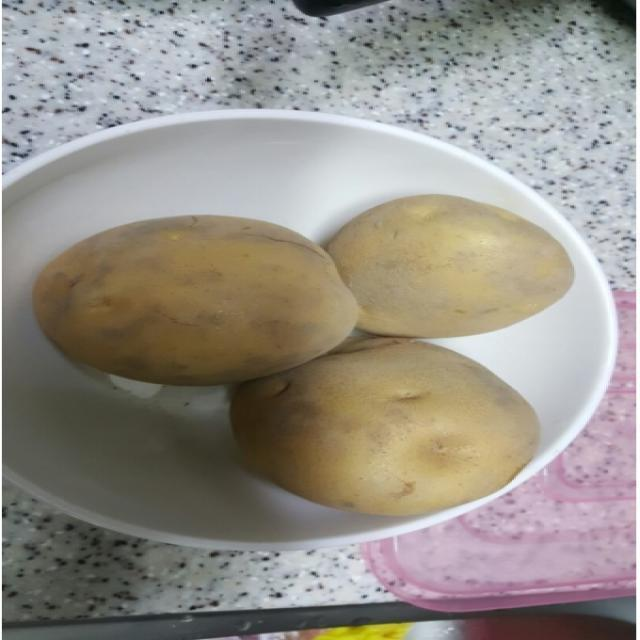potato: (218, 330, 544, 520), (28, 209, 374, 388), (312, 192, 580, 342)
